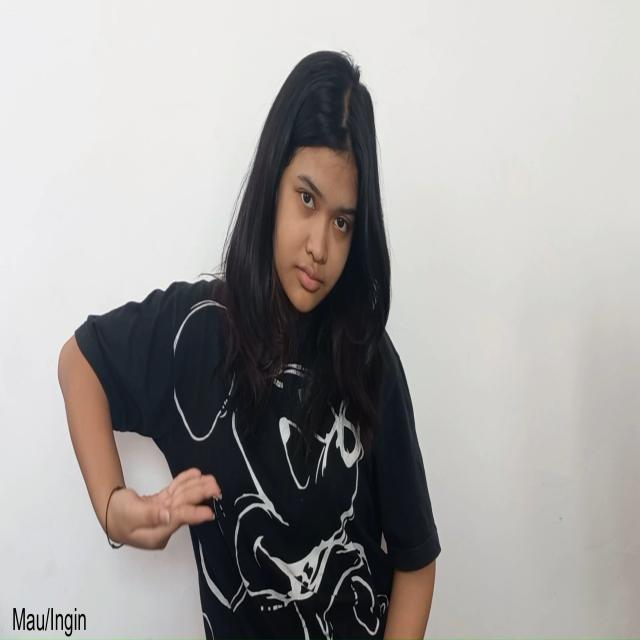Mau-Ingin -BISINDO-: (102, 465, 223, 554)
